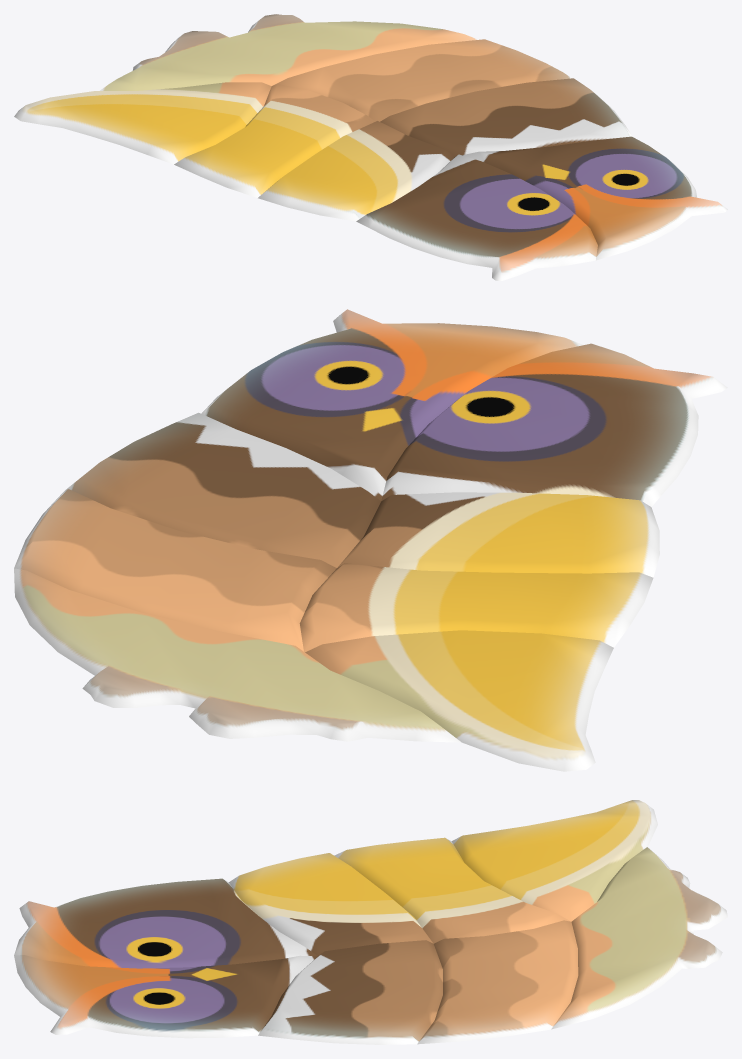
Rendered from owl_new2.fbx.
3 views of the same model, one above another, from view 1: azimuth 30°, elevation 25°; view 2: azimuth 150°, elevation 25°; view 3: azimuth 270°, elevation 25° (orthographic). The views are drawn at different scales.
Parts seen in each view (by area): view 1: polySurface2, polySurface1, polySurface7, polySurface8, polySurface3, polySurface5, polySurface4, polySurface6; view 2: polySurface2, polySurface7, polySurface1, polySurface3, polySurface8, polySurface5, polySurface4, polySurface6; view 3: polySurface2, polySurface1, polySurface7, polySurface3, polySurface5, polySurface8, polySurface4, polySurface6.
Part boxes in pixels (left/top/right/bottom): polySurface2: left=356, top=154, right=597, bottom=280; polySurface1: left=462, top=136, right=727, bottom=260; polySurface7: left=100, top=14, right=478, bottom=90; polySurface8: left=14, top=82, right=271, bottom=164; polySurface3: left=380, top=78, right=632, bottom=156; polySurface5: left=273, top=39, right=571, bottom=121; polySurface4: left=258, top=121, right=455, bottom=221; polySurface6: left=174, top=84, right=375, bottom=197; polySurface2: left=381, top=343, right=727, bottom=506; polySurface7: left=14, top=568, right=461, bottom=742; polySurface1: left=201, top=309, right=583, bottom=500; polySurface3: left=65, top=412, right=380, bottom=567; polySurface8: left=305, top=630, right=613, bottom=771; polySurface5: left=14, top=489, right=336, bottom=651; polySurface4: left=337, top=492, right=659, bottom=577; polySurface6: left=299, top=563, right=653, bottom=652; polySurface2: left=14, top=878, right=317, bottom=968; polySurface1: left=14, top=955, right=317, bottom=1038; polySurface7: left=551, top=847, right=727, bottom=1029; polySurface3: left=258, top=940, right=442, bottom=1044; polySurface5: left=417, top=920, right=578, bottom=1044; polySurface8: left=452, top=800, right=657, bottom=921; polySurface4: left=229, top=853, right=433, bottom=955; polySurface6: left=334, top=837, right=570, bottom=943.
Size of what is drawn, in the model's own units: 3.83 by 0.06 by 4.8.
